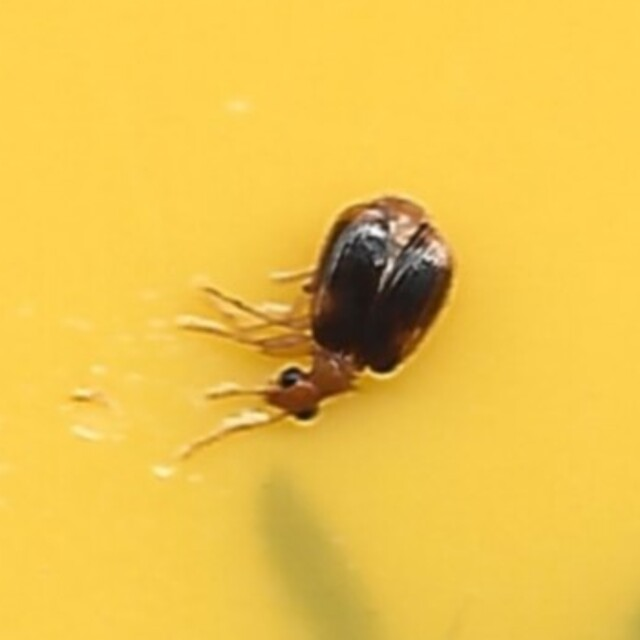Coleoptera: (183, 190, 457, 450)
